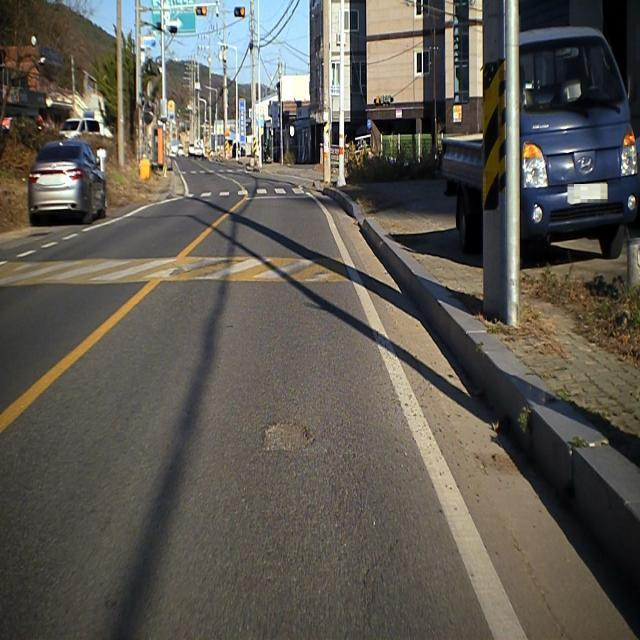Buraco: (256, 414, 322, 456)
